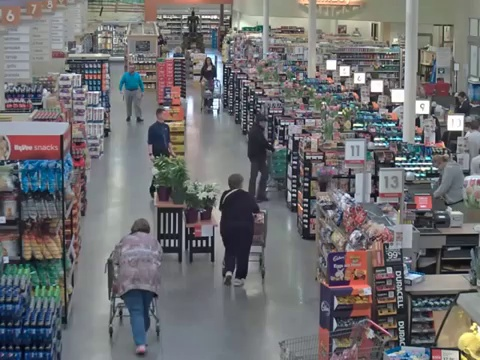face: (159, 112, 166, 121), (129, 65, 135, 72), (206, 59, 212, 64)
